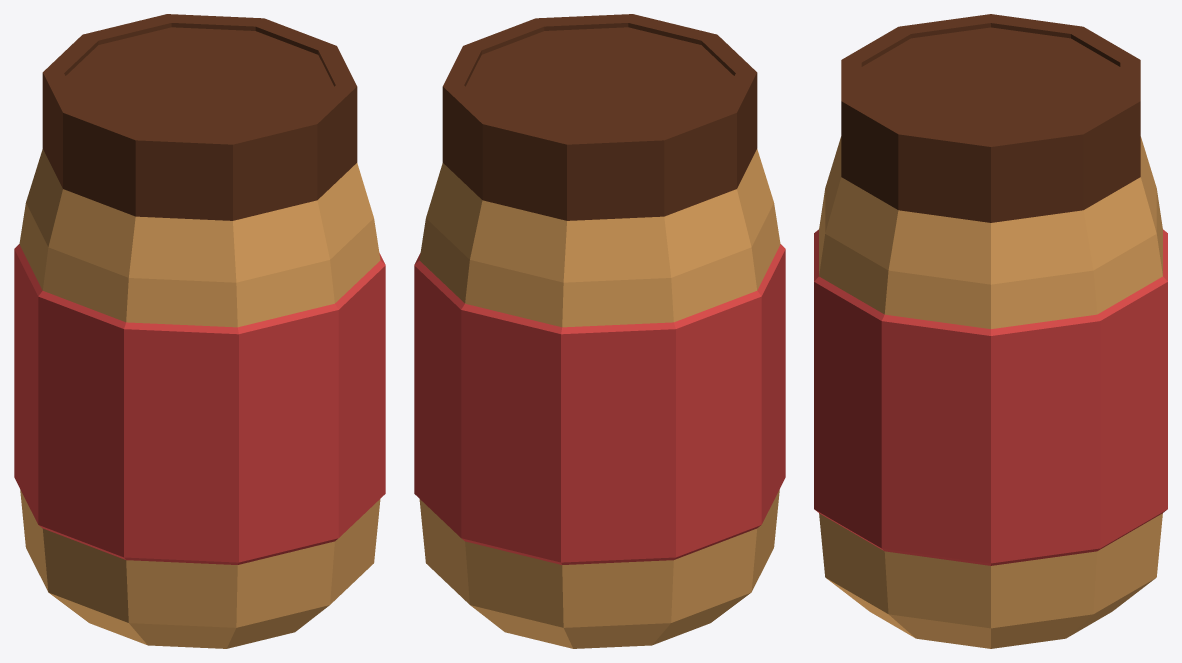
The model's file is PeanutButter.obj.
3 views of the same model, side by side, from view 1: azimuth 30°, elevation 25°; view 2: azimuth 150°, elevation 25°; view 3: azimuth 270°, elevation 25° (orthographic).
Parts seen in each view (by area): view 1: PeanutButter_PaleRed, PeanutButter_LightYellow, PeanutButter_Brown; view 2: PeanutButter_PaleRed, PeanutButter_LightYellow, PeanutButter_Brown; view 3: PeanutButter_PaleRed, PeanutButter_LightYellow, PeanutButter_Brown.
Boxes of the visible parts, x1,y1,x2,y2 form: PeanutButter_PaleRed: (14, 244, 385, 564); PeanutButter_LightYellow: (19, 149, 380, 648); PeanutButter_Brown: (42, 14, 357, 220); PeanutButter_PaleRed: (414, 244, 785, 564); PeanutButter_LightYellow: (419, 149, 780, 648); PeanutButter_Brown: (442, 14, 757, 220); PeanutButter_PaleRed: (814, 229, 1167, 565); PeanutButter_LightYellow: (819, 136, 1162, 648); PeanutButter_Brown: (841, 14, 1140, 222).
Size of the model in its own units: 0.4746 by 0.7243 by 0.4514.
